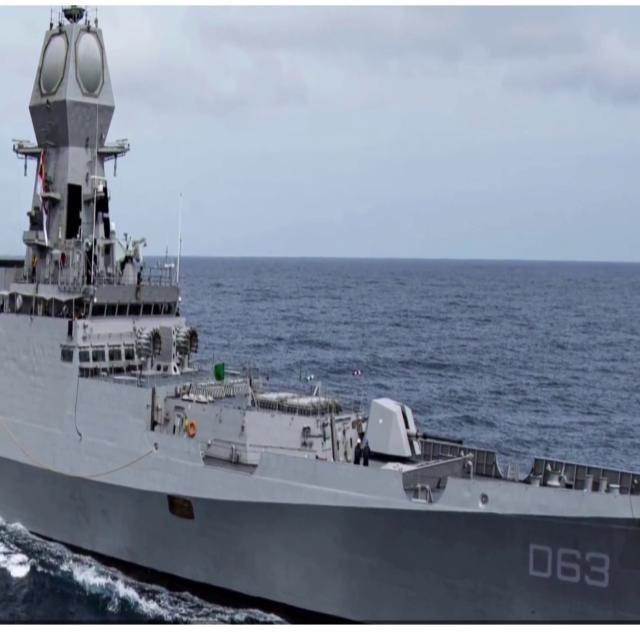OCR: (527, 538, 614, 591)
